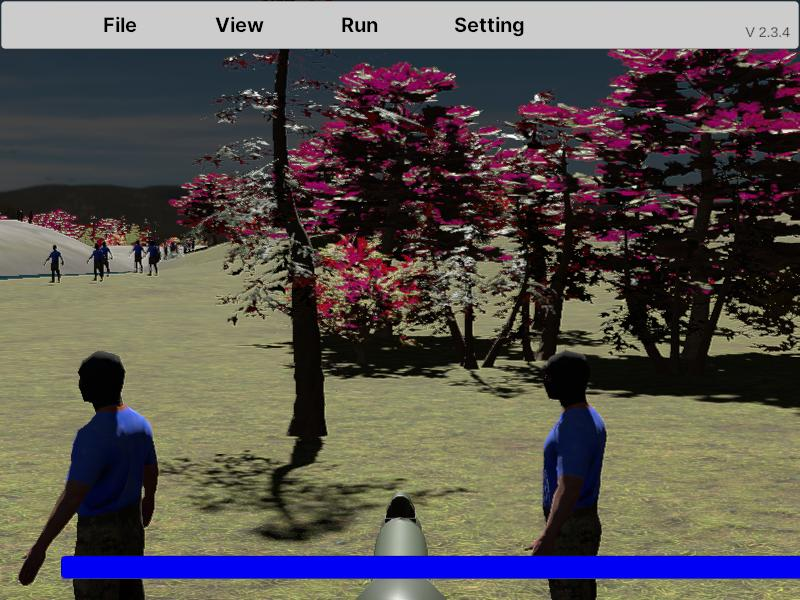Human: (20, 347, 159, 599), (532, 347, 607, 600)
